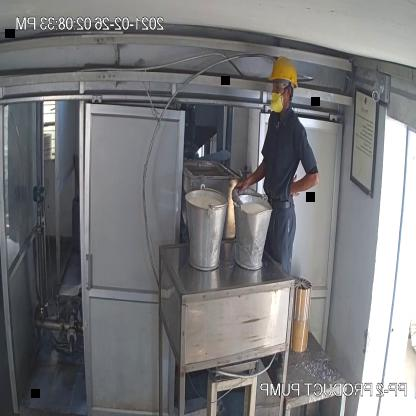helmet: (267, 56, 301, 88)
